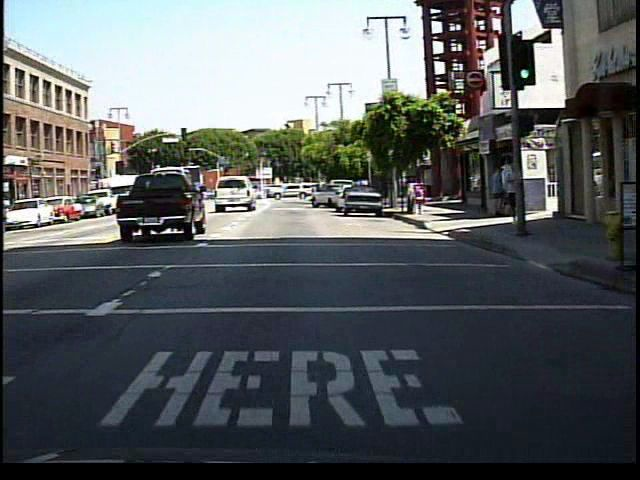person: (499, 154, 524, 227), (487, 165, 505, 220)
